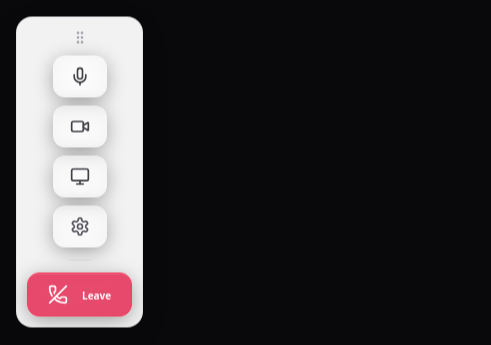
Test: ControlBar Component (Tactile Dark-Glass Controls) › Device Settings Popover & Selection › invokes onSelectAudioDevice when user selects a different microphone
The image size is (491, 345).
Later steps or results of the test are not shown.
Click the button with test id "device-settings-btn" at point(80, 226), box left=53, top=206, right=107, bottom=248
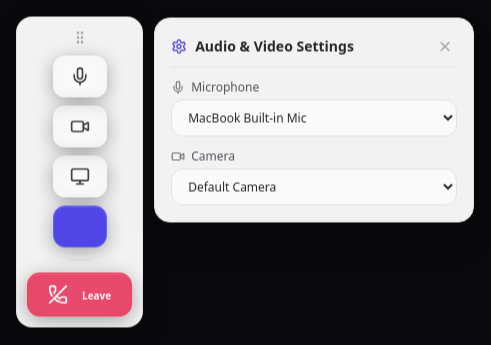
Now the dropdown with test id "audio-device-select" shows "MacBook Built-in Mic", box left=171, top=100, right=457, bottom=136
